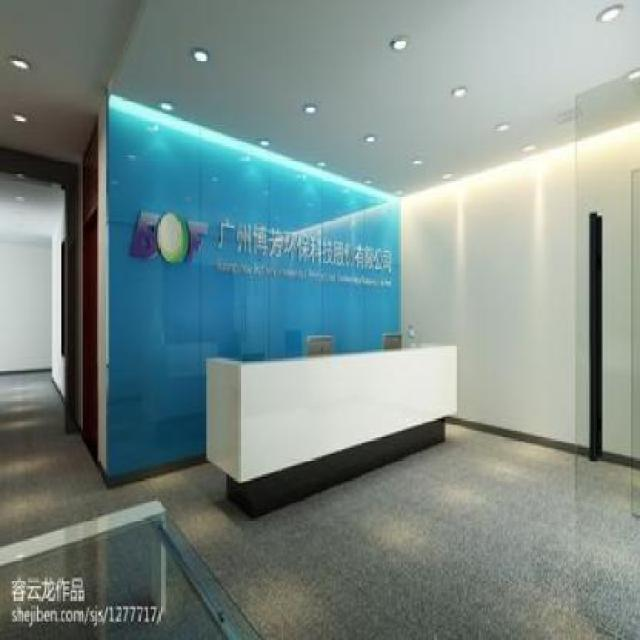frontdesk: (200, 342, 462, 526)
